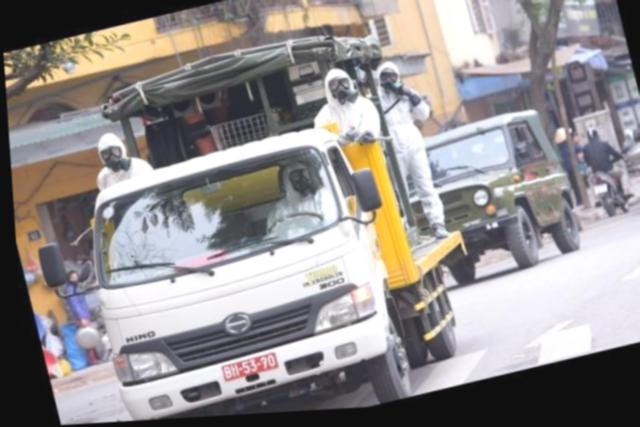License_Plate: (218, 349, 280, 387)
